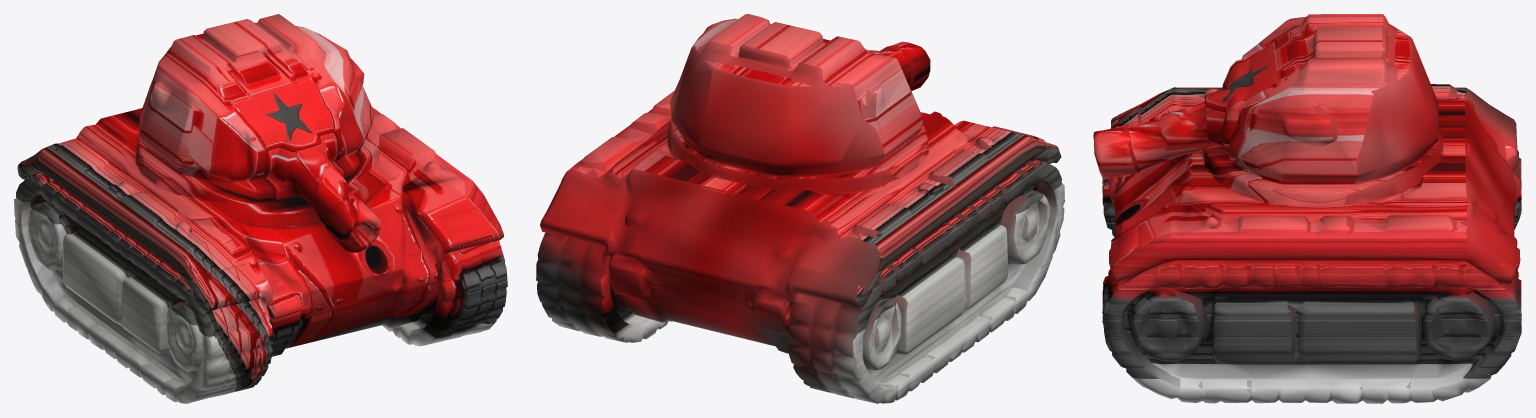
Rendered from red_tank.glb.
3 renders of one model, left to right at view 1: azimuth 30°, elevation 25°; view 2: azimuth 150°, elevation 25°; view 3: azimuth 270°, elevation 25°, orthographic. The views are drawn at different scales.
Visible parts, largest first — view 1: red_tank; view 2: red_tank; view 3: red_tank.
Part boxes in pixels (x1=…): red_tank: x1=14, y1=14, x2=507, y2=403; red_tank: x1=536, y1=14, x2=1064, y2=403; red_tank: x1=1093, y1=14, x2=1521, y2=403.
Size of the model in its own units: 5.6 by 4.86 by 6.5.
1 material, 1 textured.
